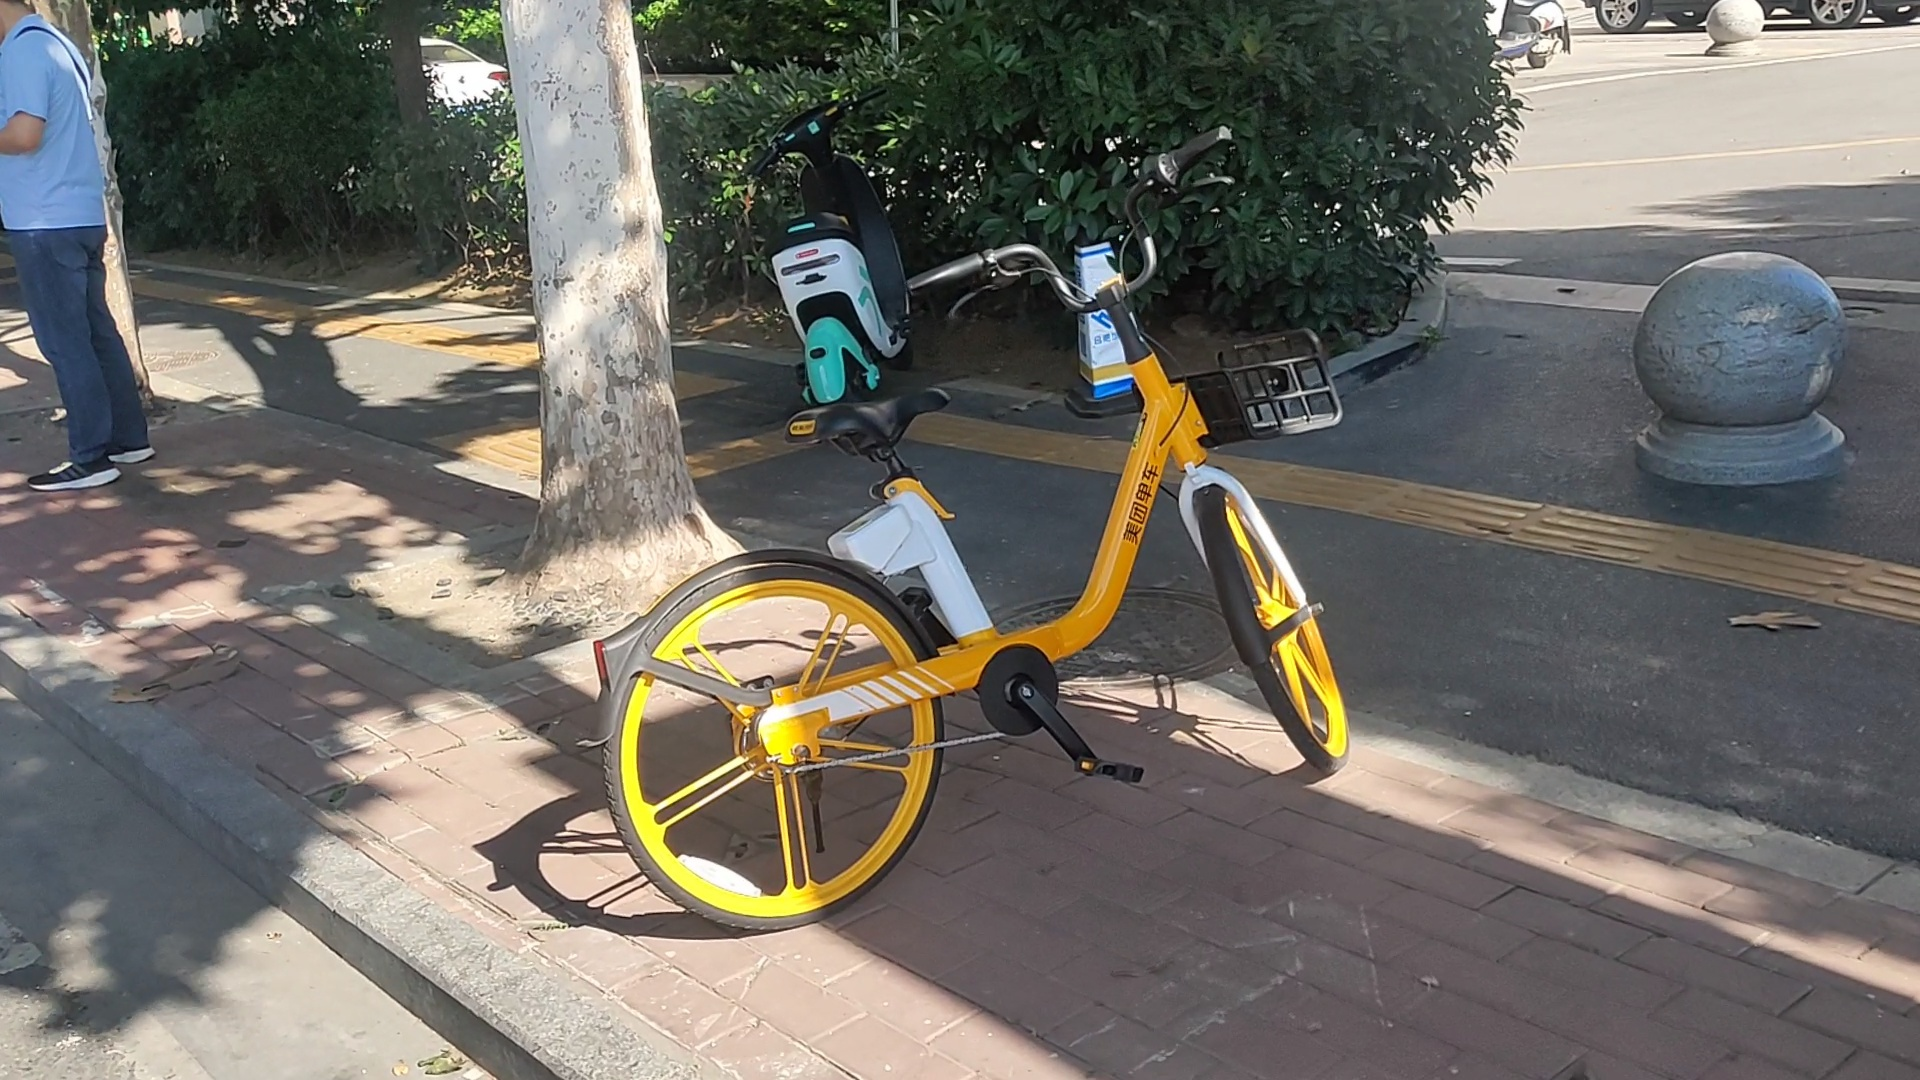non-vehicle: (607, 141, 1352, 957), (737, 75, 918, 418), (1484, 0, 1571, 70)
